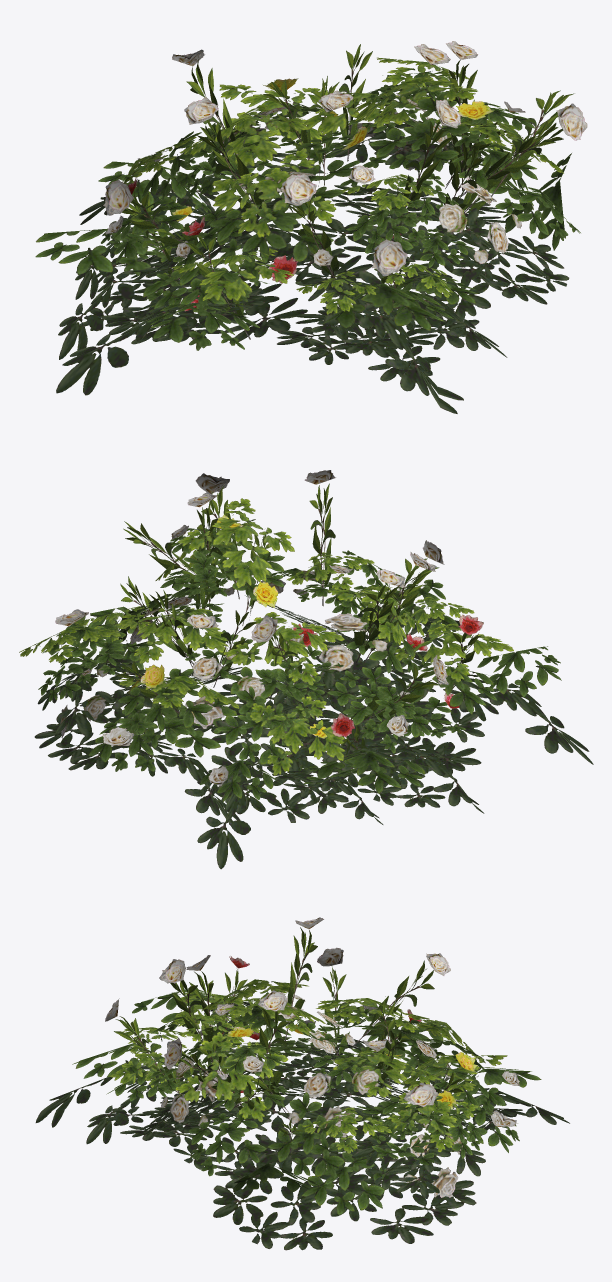
The model's file is 1004_Item_hua_3.FBX.
The picture shows the model from 3 angles, top to bottom: view 1: azimuth 30°, elevation 25°; view 2: azimuth 150°, elevation 25°; view 3: azimuth 270°, elevation 25°; orthographic projection. The views are drawn at different scales.
Parts seen in each view (by area): view 1: 1004_Item_hua_3; view 2: 1004_Item_hua_3; view 3: 1004_Item_hua_3.
Boxes of the visible parts, box(x1,y1,x2,y2) form: 1004_Item_hua_3: box(35, 41, 587, 413); 1004_Item_hua_3: box(19, 470, 593, 869); 1004_Item_hua_3: box(35, 917, 569, 1250).
Bounding box in the file's own units: 157 × 162 × 69.47.
